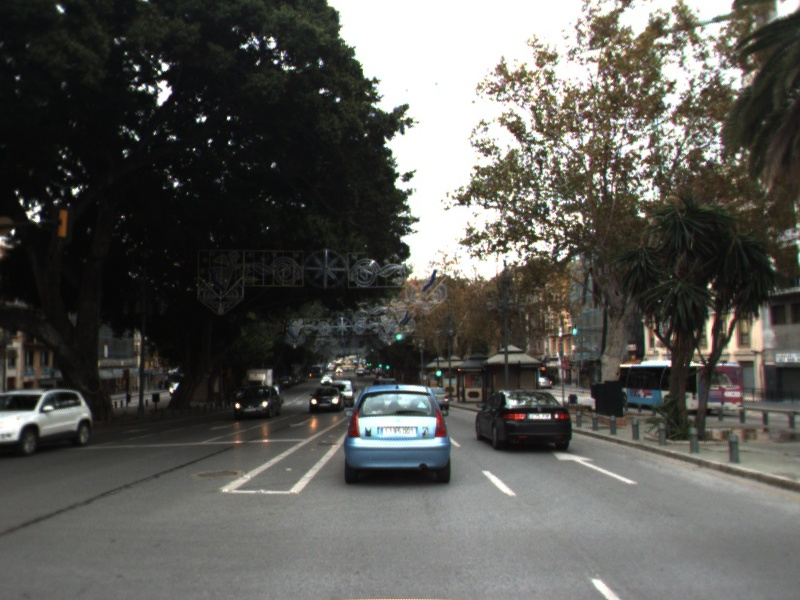STRAIGHT: (550, 449, 640, 486)
